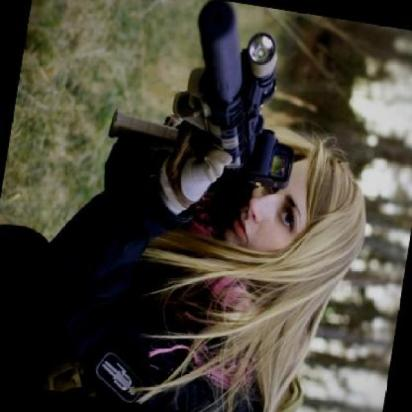Gun: (94, 0, 350, 239)
